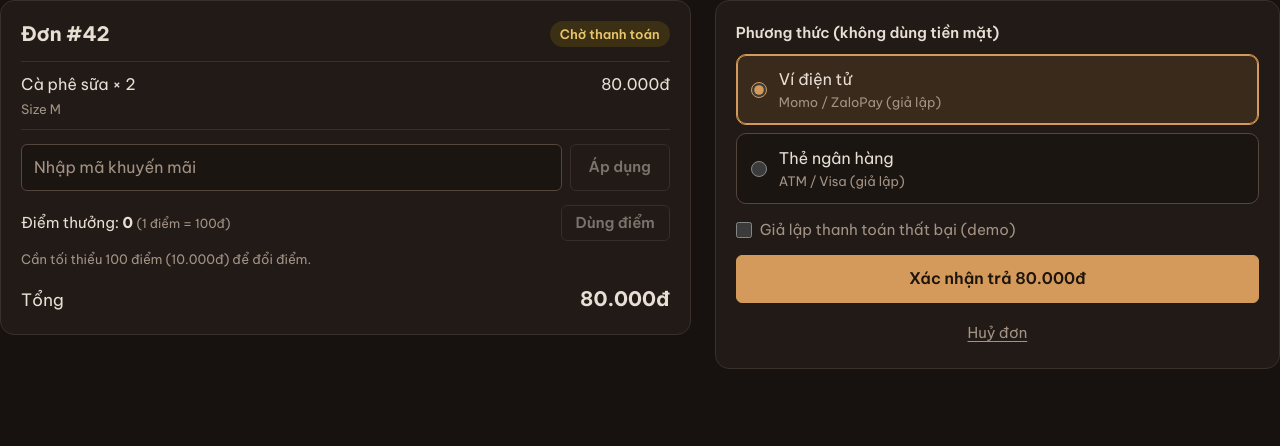
Test: Checkout — mã khuyến mãi (FR-18) › gỡ mã: trả về tổng ban đầu
This screenshot has width=1280, height=446.
Step 1. Type "BREW10" into the field labelled "mã khuyến mãi" → (291, 168), box [21,144,562,191]
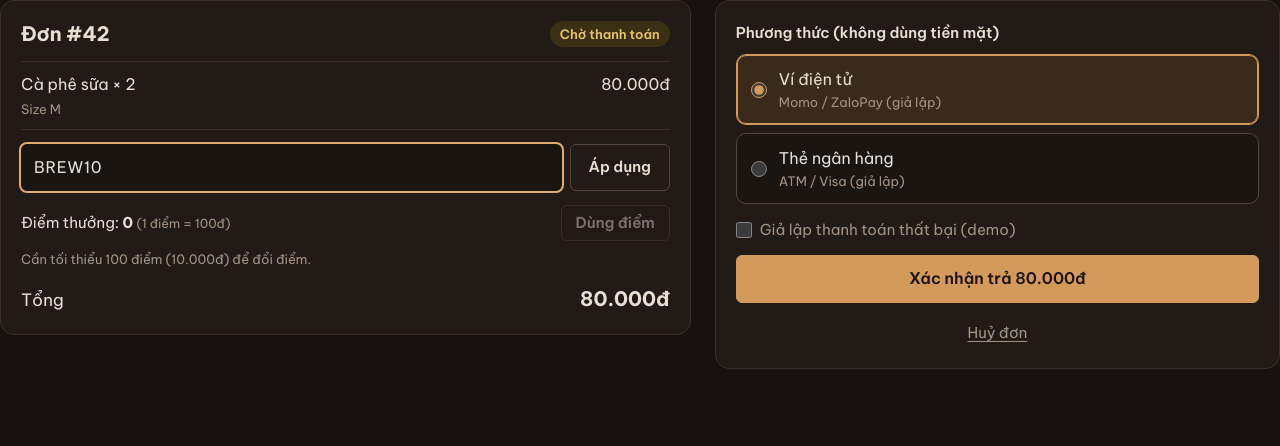
Step 2. Click the button "Áp dụng" → (620, 168), box [570,144,670,191]
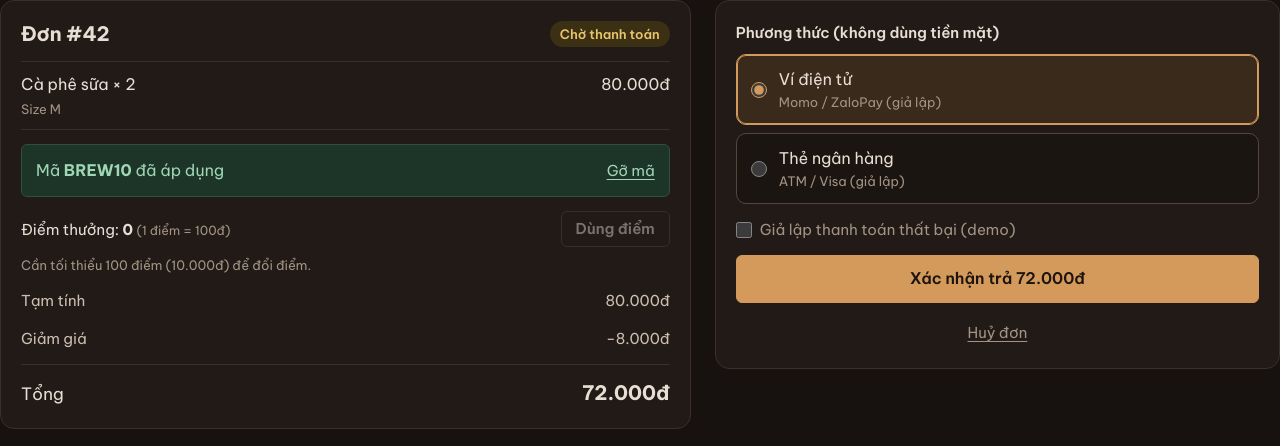
Step 3. Click the button "Gỡ mã" → (631, 171), box [607,155,655,186]
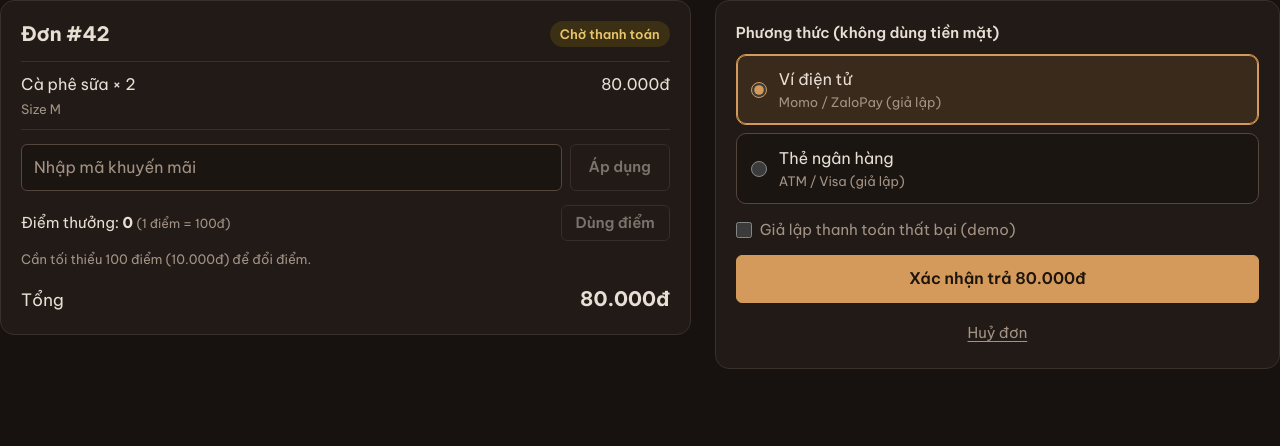
Expected: the text with test id "order-total" reads "80.000đ", [580,286,670,311]
Expected: the element with test id "promo-applied" is gone
